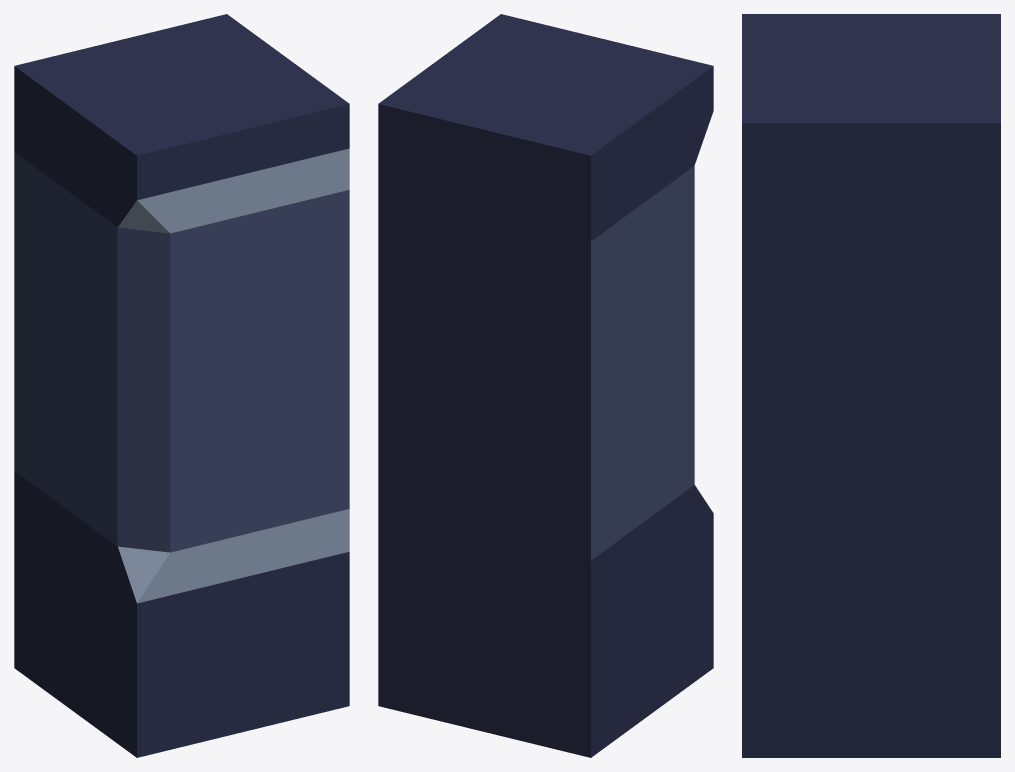
File: darkWallCorner 1.fbx
3 views of the same model, side by side, from view 1: azimuth 30°, elevation 25°; view 2: azimuth 150°, elevation 25°; view 3: azimuth 270°, elevation 25° (orthographic). The views are drawn at different scales.
Parts seen in each view (by area): view 1: Cube.005; view 2: Cube.005; view 3: Cube.005.
Boxes of the visible parts, x1,y1,x2,y2 form: Cube.005: [14, 14, 349, 757]; Cube.005: [378, 14, 713, 757]; Cube.005: [742, 14, 1000, 757].
Size of the model in its own units: 200 by 541 by 200.
